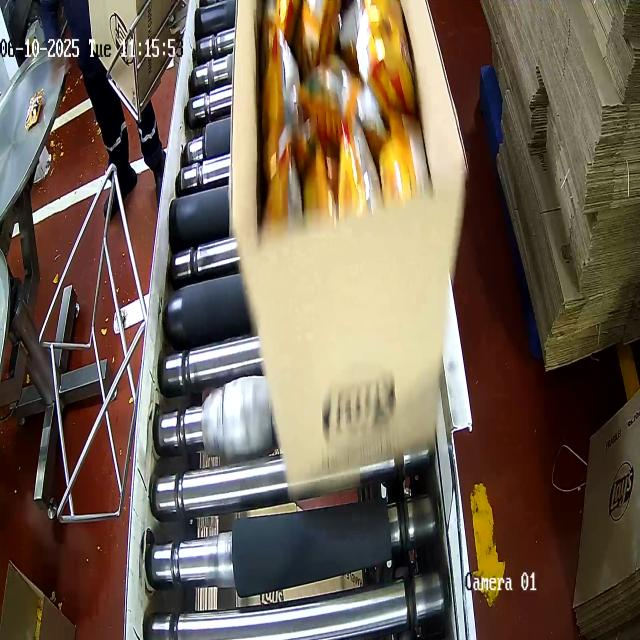FRENCH_CHEESE: (268, 0, 428, 225)
